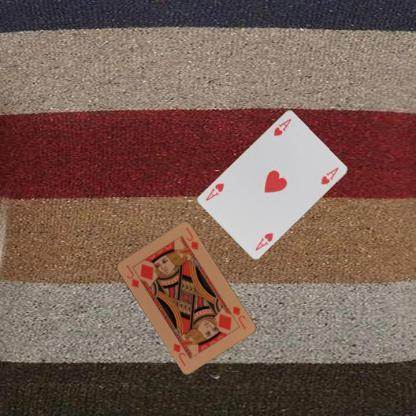Ah: (270, 115, 292, 137), (252, 230, 274, 252)
Jd: (226, 303, 248, 330), (122, 262, 140, 290)
